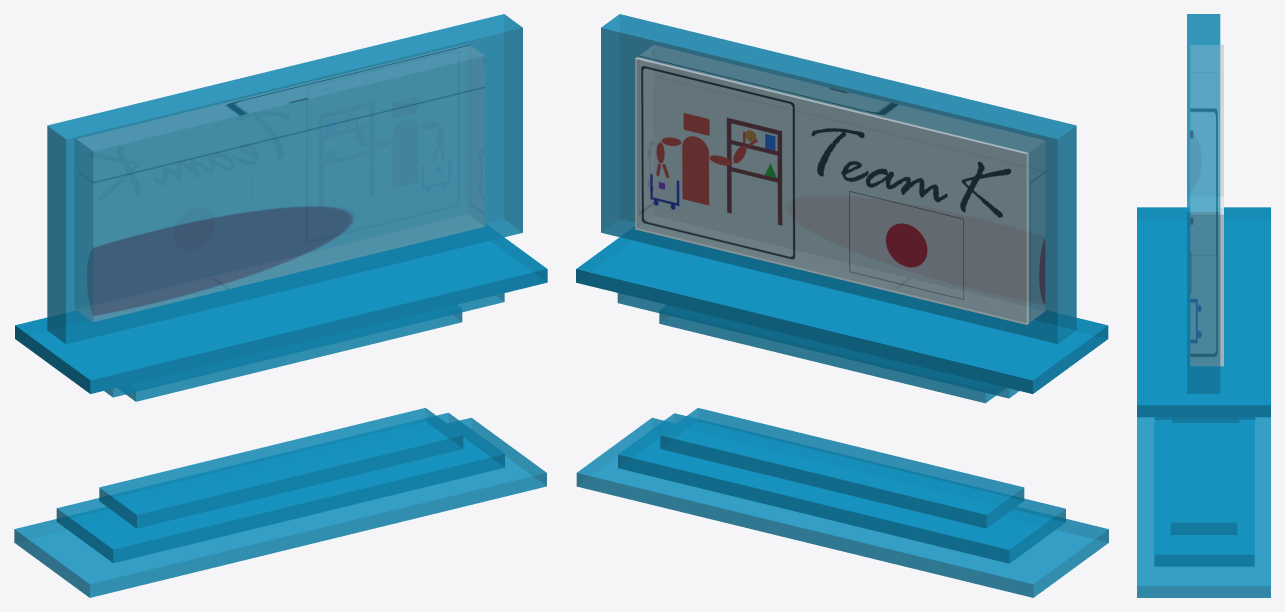
Rendered from score_board.dae.
3 views of the same model, side by side, from view 1: azimuth 30°, elevation 25°; view 2: azimuth 150°, elevation 25°; view 3: azimuth 270°, elevation 25° (orthographic). The views are drawn at different scales.
Visible parts, largest first — view 1: Cube_008, Cube_006, Cube_001, Cube_007, Cube, Cube_005, Cube_004, Cube_002, Cube_003; view 2: Cube_008, Cube_006, Cube_001, Cube_007, Cube, Cube_005, Cube_004, Cube_002, Cube_003; view 3: Cube_001, Cube_007, Cube_008, Cube_006, Cube, Cube_005, Cube_004, Cube_002, Cube_003.
Part boxes in pixels (box(x1,y1,x2,y2)): Cube_008: box(47, 14, 522, 344); Cube_006: box(76, 43, 484, 321); Cube_001: box(15, 237, 547, 393); Cube_007: box(15, 237, 547, 393); Cube: box(14, 417, 546, 597); Cube_005: box(99, 408, 463, 528); Cube_004: box(56, 412, 504, 563); Cube_002: box(104, 293, 504, 397); Cube_003: box(126, 312, 462, 401); Cube_008: box(601, 14, 1076, 343); Cube_006: box(635, 45, 1044, 324); Cube_001: box(576, 237, 1108, 393); Cube_007: box(576, 237, 1107, 393); Cube: box(576, 417, 1108, 597); Cube_005: box(660, 408, 1024, 528); Cube_004: box(618, 413, 1065, 563); Cube_002: box(617, 293, 1018, 398); Cube_003: box(659, 313, 995, 403); Cube_001: box(1137, 207, 1270, 417); Cube_007: box(1137, 207, 1270, 416); Cube_008: box(1187, 14, 1220, 393); Cube_006: box(1190, 45, 1223, 366); Cube: box(1137, 417, 1270, 597); Cube_005: box(1170, 420, 1237, 534); Cube_004: box(1154, 417, 1254, 566); Cube_002: box(1155, 417, 1255, 419); Cube_003: box(1172, 420, 1239, 422).
Bounding box in the file's own units: 1.41 × 0.4002 × 1.28.
Materials: 2 (1 with a texture image).
